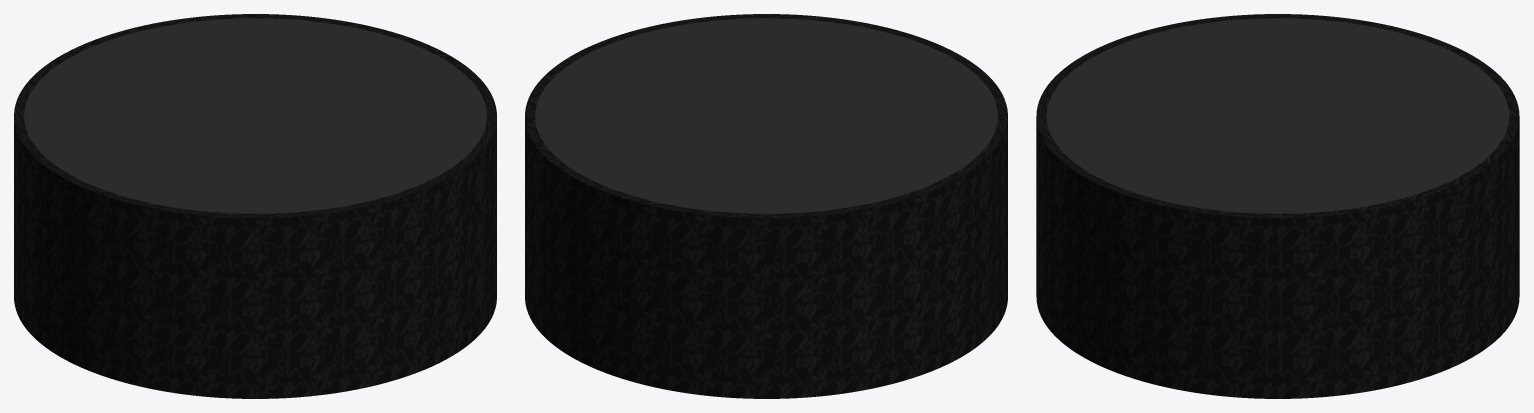
Rendered from StudioSet.fbx.
The picture shows the model from 3 angles, left to right: view 1: azimuth 30°, elevation 25°; view 2: azimuth 150°, elevation 25°; view 3: azimuth 270°, elevation 25°; orthographic projection.
Visible parts, largest first — view 1: SM_Studio_Wall, SM_Studio_Ceiling; view 2: SM_Studio_Wall, SM_Studio_Ceiling; view 3: SM_Studio_Wall, SM_Studio_Ceiling.
Boxes of the visible parts, x1,y1,x2,y2 form: SM_Studio_Wall: [14, 14, 496, 398]; SM_Studio_Ceiling: [24, 18, 486, 213]; SM_Studio_Wall: [525, 14, 1007, 398]; SM_Studio_Ceiling: [535, 18, 997, 213]; SM_Studio_Wall: [1036, 14, 1519, 398]; SM_Studio_Ceiling: [1046, 18, 1509, 213].
Bounding box in the file's own units: 16.7 × 6.9 × 16.7.
Materials: 10 (6 with a texture image).
